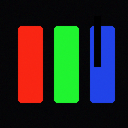4 line_v: (94, 16, 100, 66)
